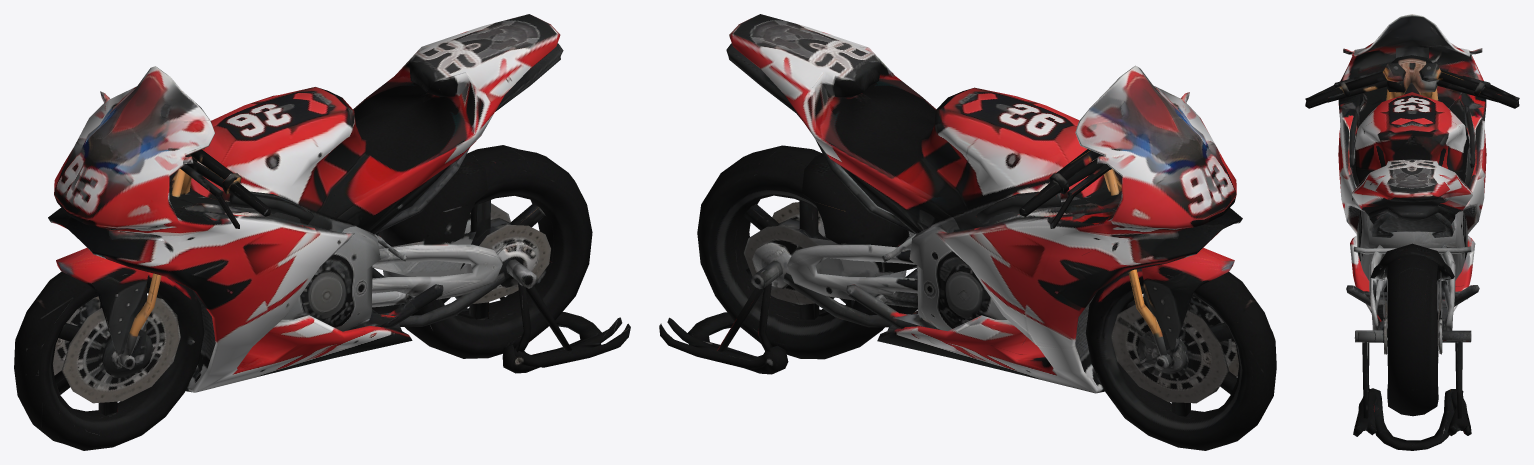
The model's file is moto_tex.fbx.
The picture shows the model from 3 angles, left to right: view 1: azimuth 30°, elevation 25°; view 2: azimuth 150°, elevation 25°; view 3: azimuth 270°, elevation 25°; orthographic projection. The views are drawn at different scales.
Visible parts, largest first — view 1: Mesh_0; view 2: Mesh_0; view 3: Mesh_0.
Part boxes in pixels (left/top/right/bottom): Mesh_0: left=14, top=14, right=630, bottom=450; Mesh_0: left=659, top=14, right=1276, bottom=450; Mesh_0: left=1305, top=14, right=1519, bottom=450.
Bounding box in the file's own units: 100 × 61.33 × 42.87.
Materials: 1 (1 with a texture image).
